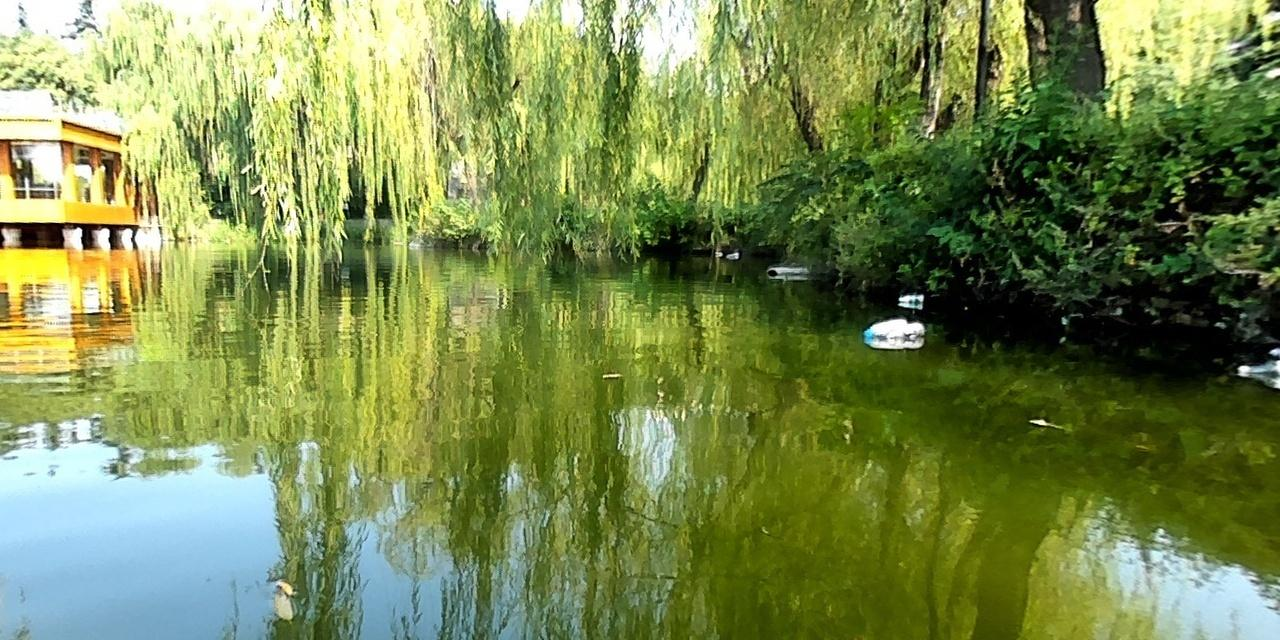bottle: (863, 317, 923, 339), (898, 294, 923, 307), (725, 251, 737, 260)
